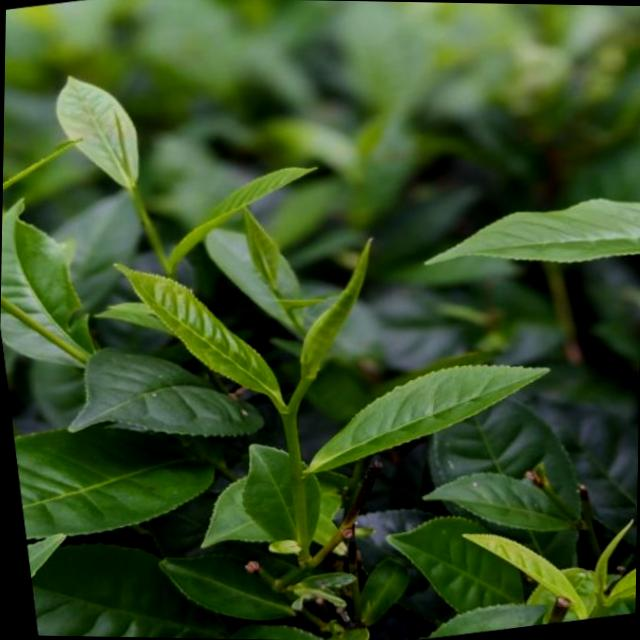Stem: (283, 407, 296, 424)
